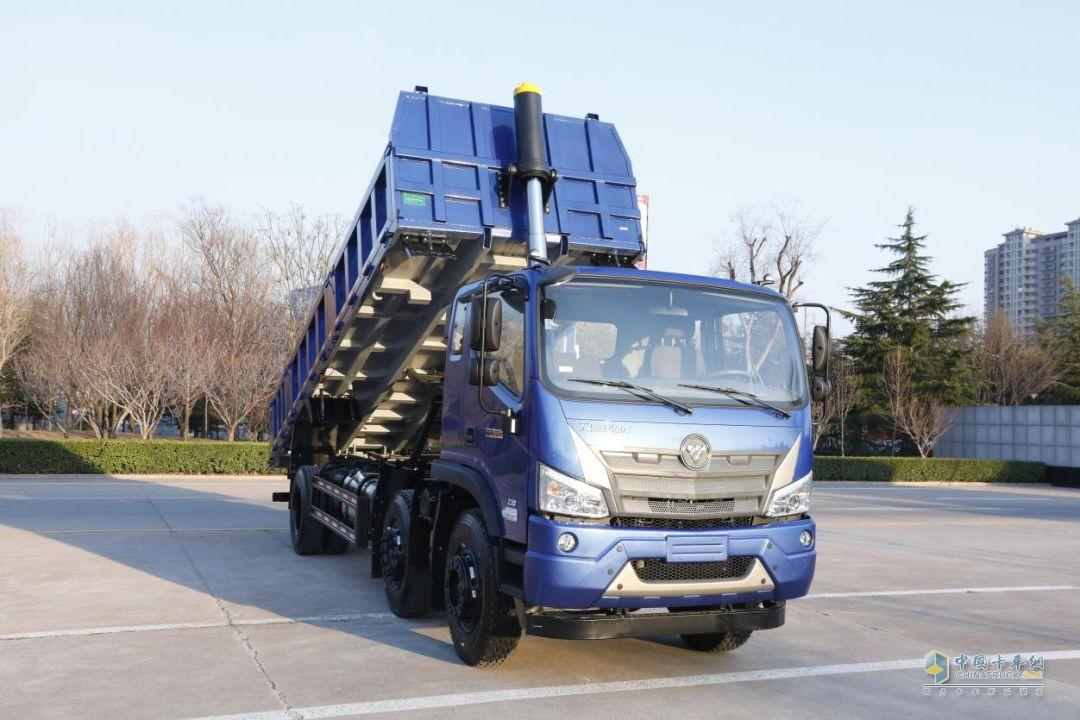truck: (244, 83, 837, 677)
